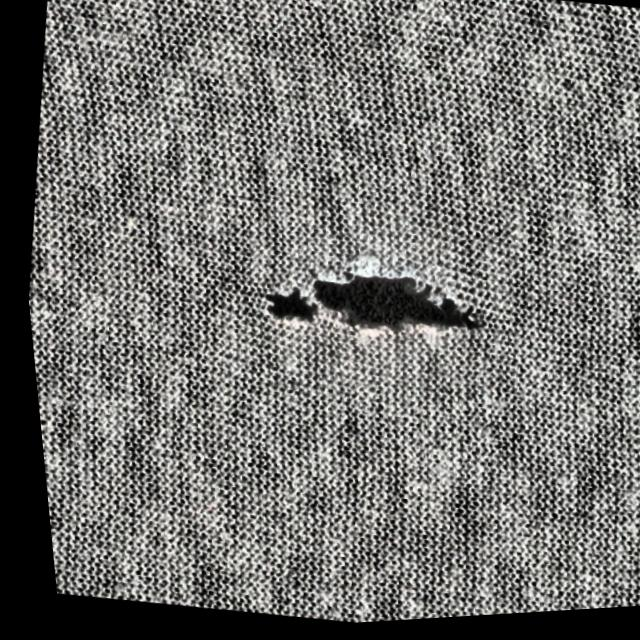Hole: (205, 201, 515, 409)
